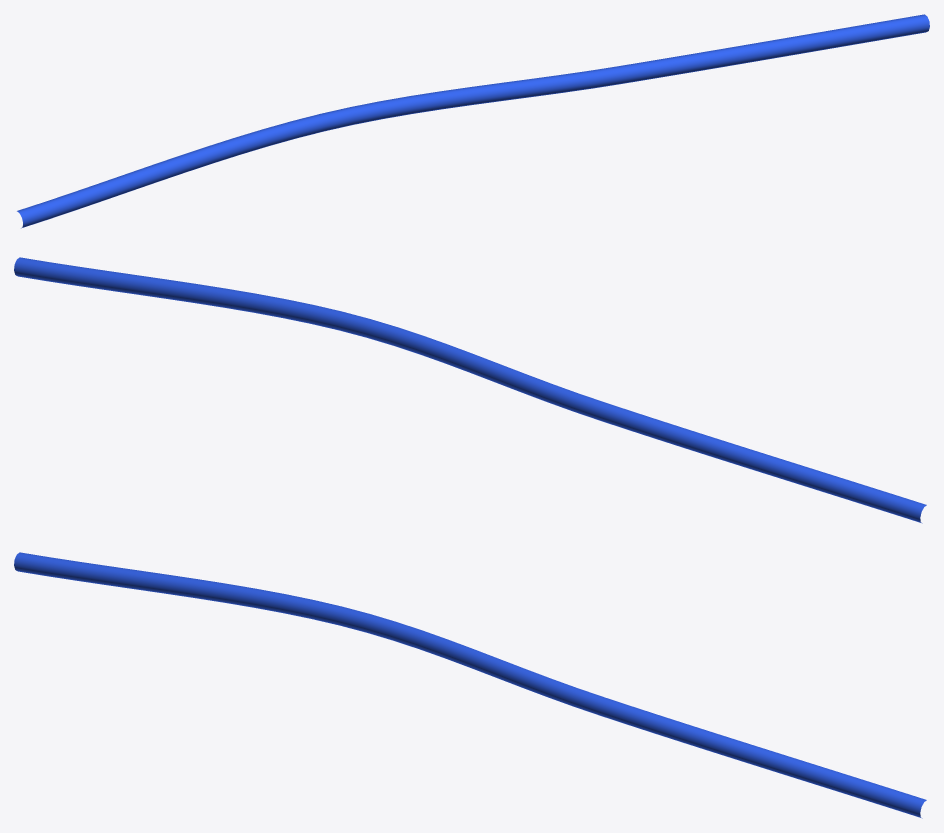
File: lan-cable.glb
The picture shows the model from 3 angles, top to bottom: view 1: azimuth 30°, elevation 25°; view 2: azimuth 150°, elevation 25°; view 3: azimuth 330°, elevation 25°; orthographic projection. The views are drawn at different scales.
Bounding box in the file's own units: 2 × 0.0899 × 0.1523.
1 material, 1 textured.
